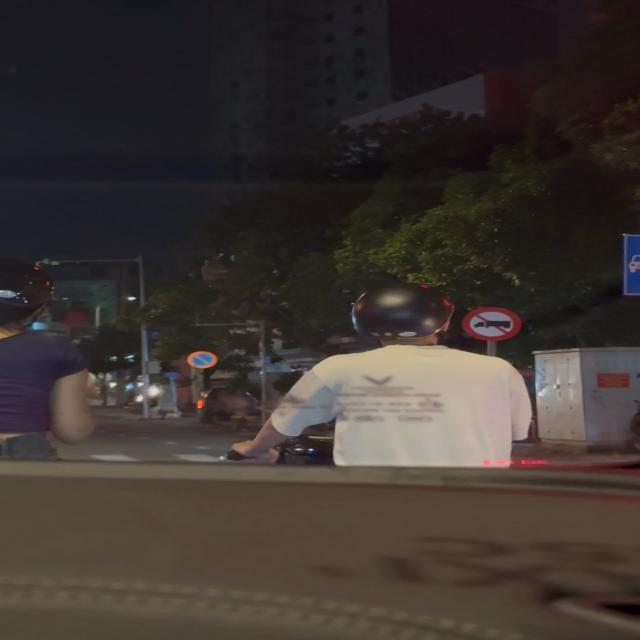Bien bao cam do xe: (184, 349, 219, 369)
Bien bao cam xe so-mi ro-mooc: (461, 305, 526, 343)
